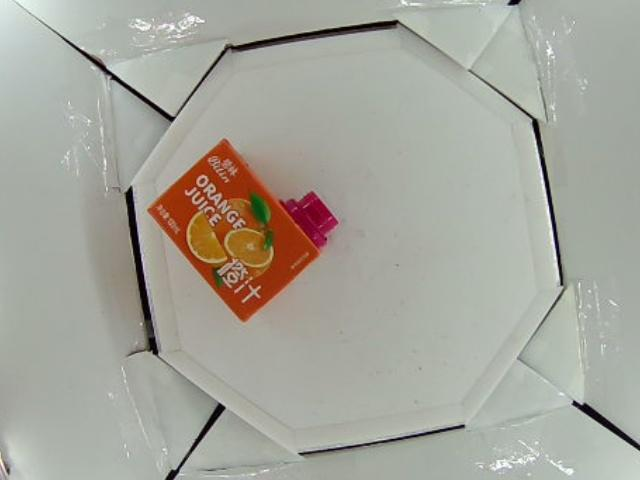Bottle: (145, 136, 340, 326)
